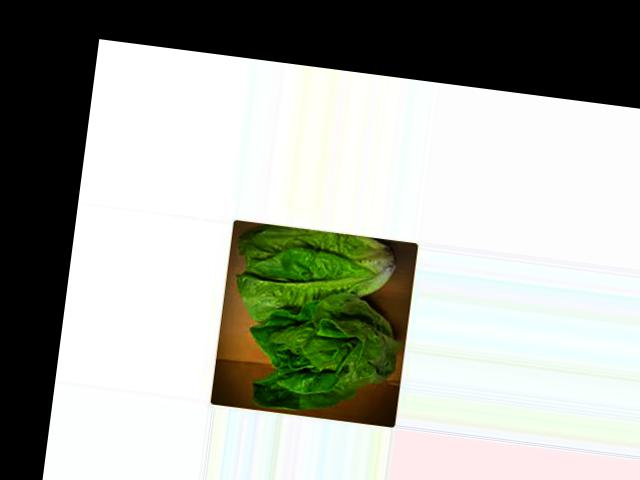lettuce: (233, 227, 394, 397)
